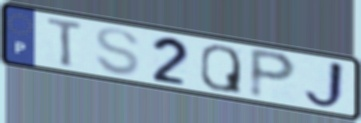2: (147, 33, 193, 89)
J: (301, 58, 349, 111)
P: (247, 45, 299, 102)
Q: (198, 43, 244, 96)
S: (93, 26, 142, 77)
T: (45, 16, 85, 69)
